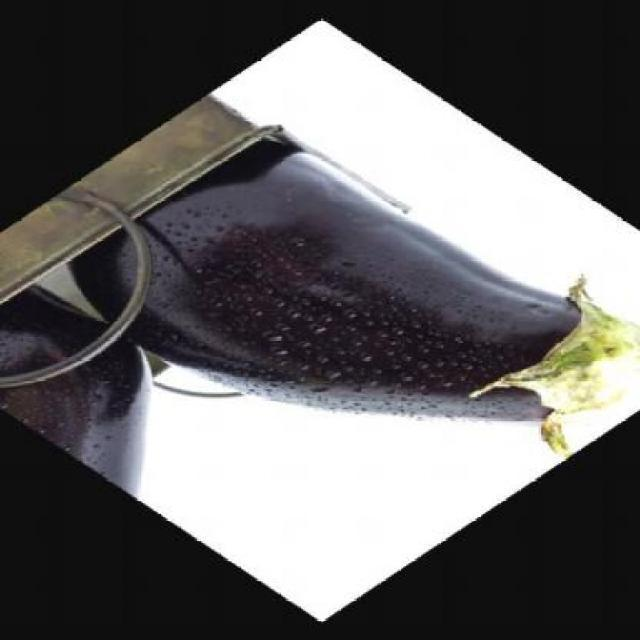eggplant: (66, 134, 638, 422), (0, 278, 164, 502)
